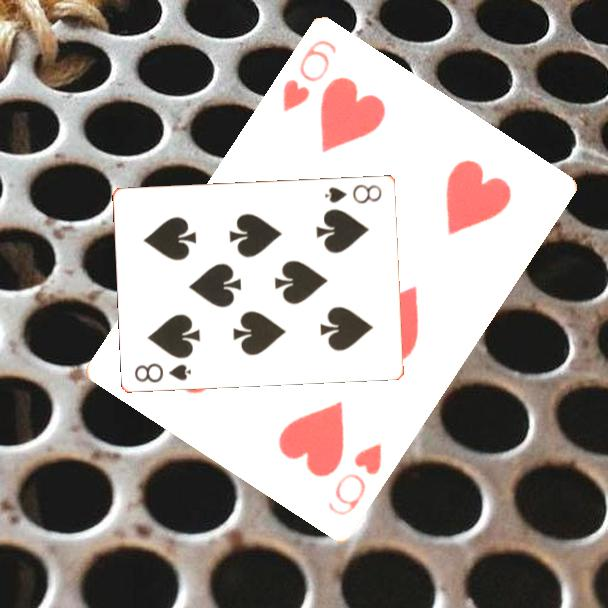h06: (279, 37, 340, 116), (325, 440, 385, 520)
s08: (321, 180, 385, 206), (132, 359, 194, 385)
